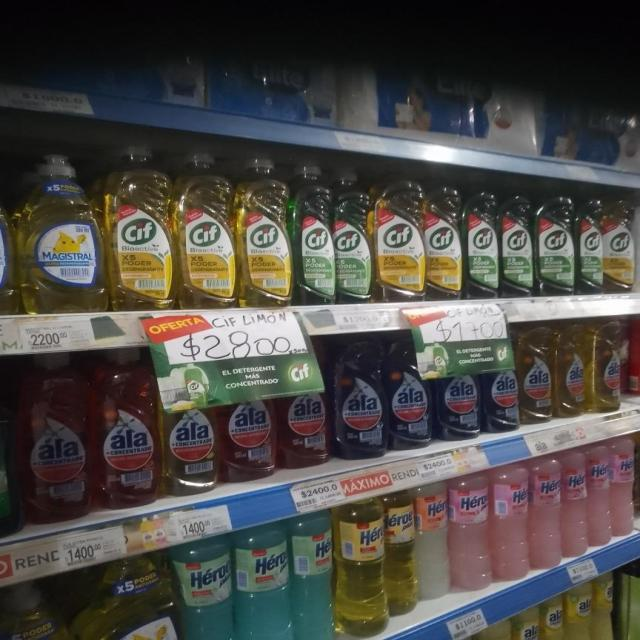ala_conc_amarillo: (162, 407, 218, 496), (518, 324, 552, 426), (587, 319, 623, 414), (554, 322, 587, 419)
ala_conc_azul: (331, 334, 385, 460), (387, 334, 431, 452), (434, 372, 480, 442), (482, 369, 519, 434)
ala_conc_rojo: (16, 352, 91, 525), (94, 348, 159, 510), (220, 401, 275, 483), (278, 392, 328, 469), (628, 314, 640, 398)
ala_crem_amarillo: (592, 572, 617, 640), (566, 581, 592, 640), (623, 560, 640, 640), (542, 594, 564, 640), (514, 606, 540, 640), (478, 620, 512, 640)
cif_conc_bot_amarilla: (107, 140, 173, 310), (176, 148, 236, 308), (237, 154, 291, 308), (374, 172, 423, 302), (424, 182, 462, 300), (603, 199, 635, 294)
cif_conc_botella_verde: (292, 161, 334, 306), (334, 166, 373, 305), (536, 194, 575, 297), (464, 186, 499, 300), (500, 190, 534, 298), (576, 196, 602, 295)
heroe: (336, 493, 385, 639), (234, 520, 291, 640), (176, 534, 234, 640), (292, 507, 334, 640), (449, 470, 490, 593), (492, 461, 528, 583), (385, 486, 416, 620), (416, 478, 448, 603), (529, 454, 561, 570), (562, 447, 588, 559), (588, 439, 612, 548), (612, 434, 635, 537), (634, 431, 640, 536)
magistral_con_amarillo: (20, 152, 103, 313), (83, 551, 178, 640), (1, 583, 78, 640), (0, 156, 15, 316)
